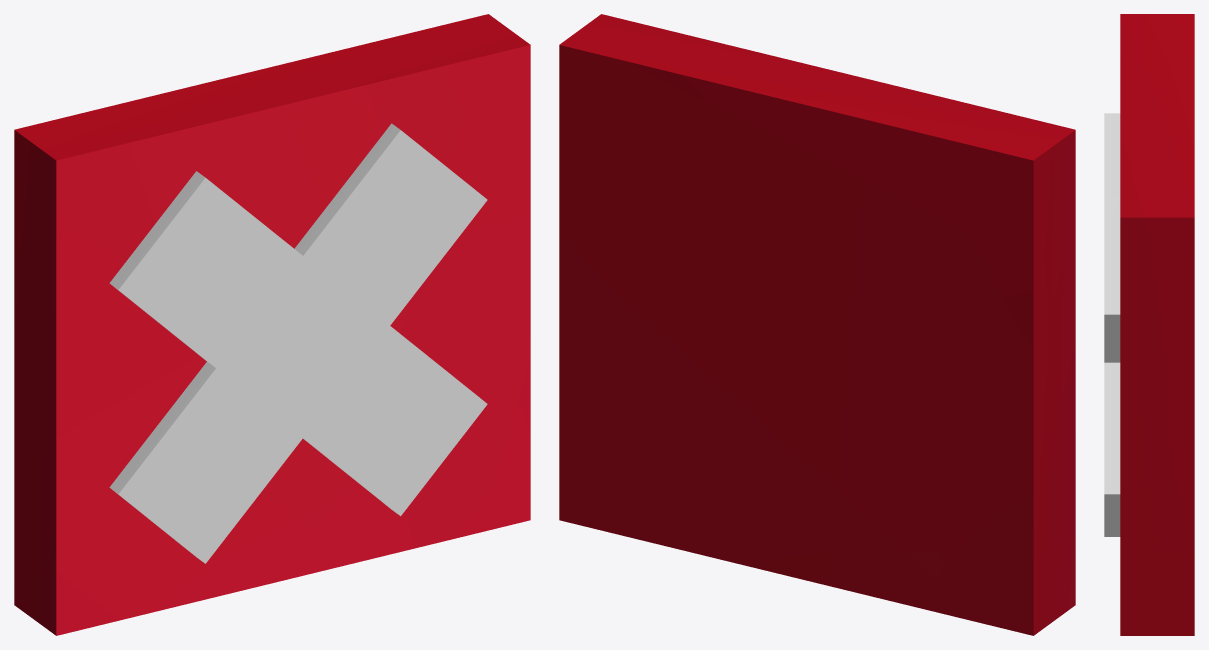
3 views of the same model, side by side, from view 1: azimuth 30°, elevation 25°; view 2: azimuth 150°, elevation 25°; view 3: azimuth 270°, elevation 25° (orthographic). The views are drawn at different scales.
Visible parts, largest first — view 1: closeButtonSquareRed; view 2: closeButtonSquareRed; view 3: closeButtonSquareRed.
Part boxes in pixels (x1,y1,x2,y2): closeButtonSquareRed: [14, 14, 530, 635]; closeButtonSquareRed: [559, 14, 1075, 635]; closeButtonSquareRed: [1104, 14, 1194, 635].
Size of what is drawn, in the model's own units: 0.2009 by 0.1924 by 0.0377.
Materials: 1 (1 with a texture image).
